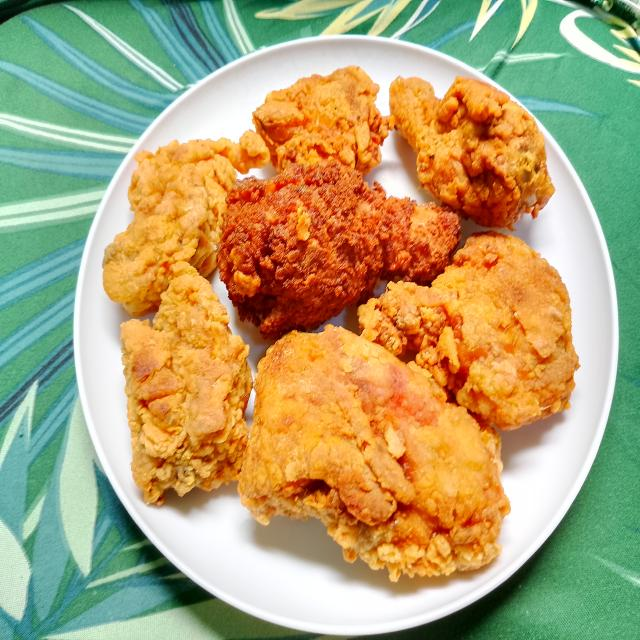Chicken -Fried Chicken-: (238, 325, 506, 568), (218, 154, 455, 342), (356, 243, 572, 432), (118, 266, 253, 500), (385, 73, 564, 229), (114, 140, 236, 306), (255, 59, 388, 191)
